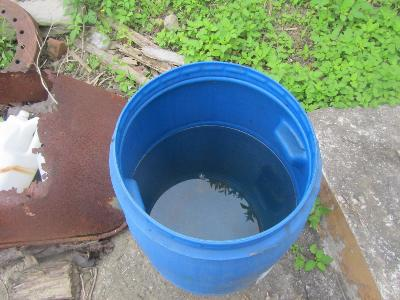bucket: (108, 61, 322, 295)
